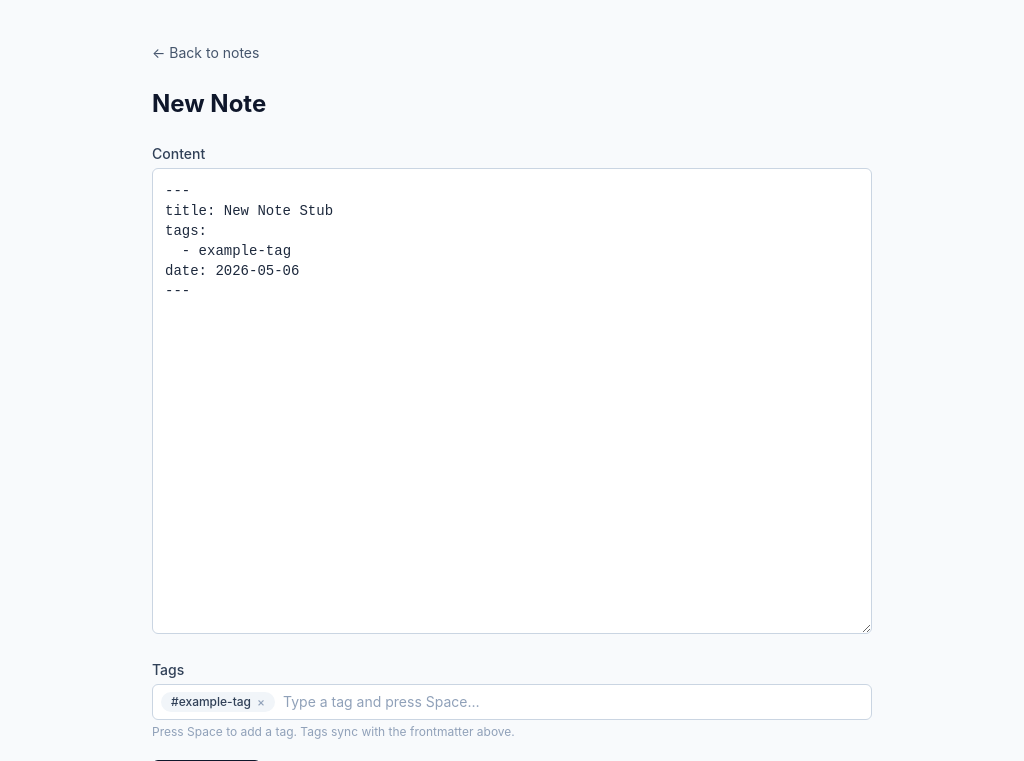
Scenario: NewNotePage component › removes a tag pill when × is clicked
Click the button named "Remove tag example-tag" at [261, 702], box [257,696,265,708]
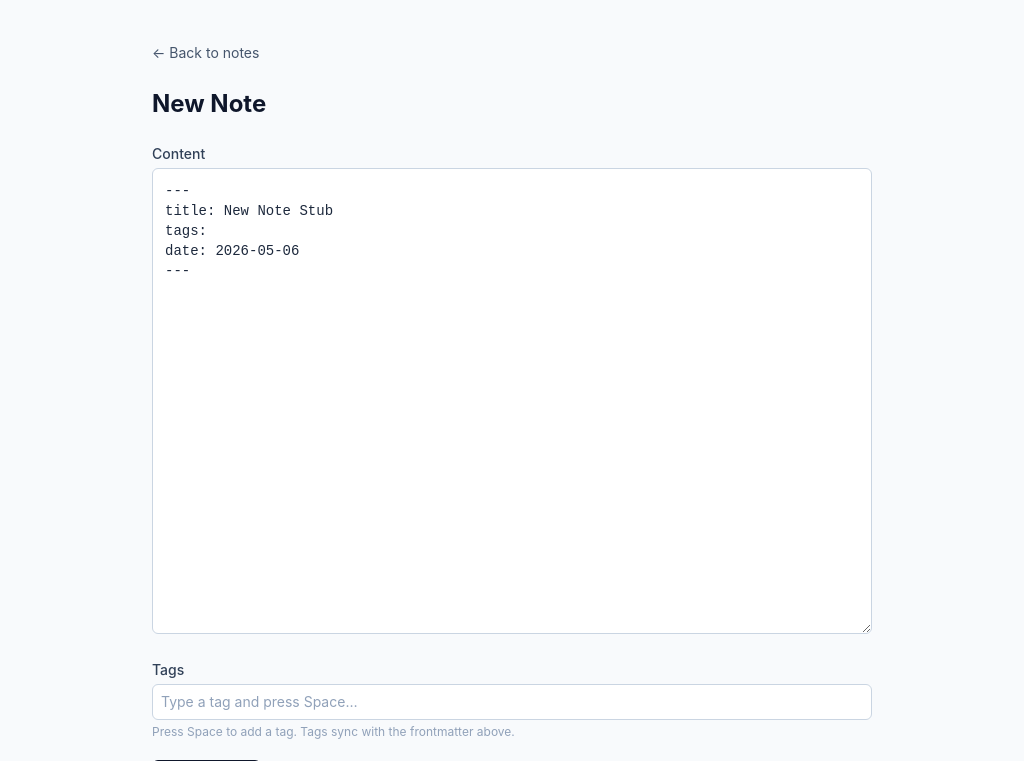
Expected: the text "#example-tag" is gone
